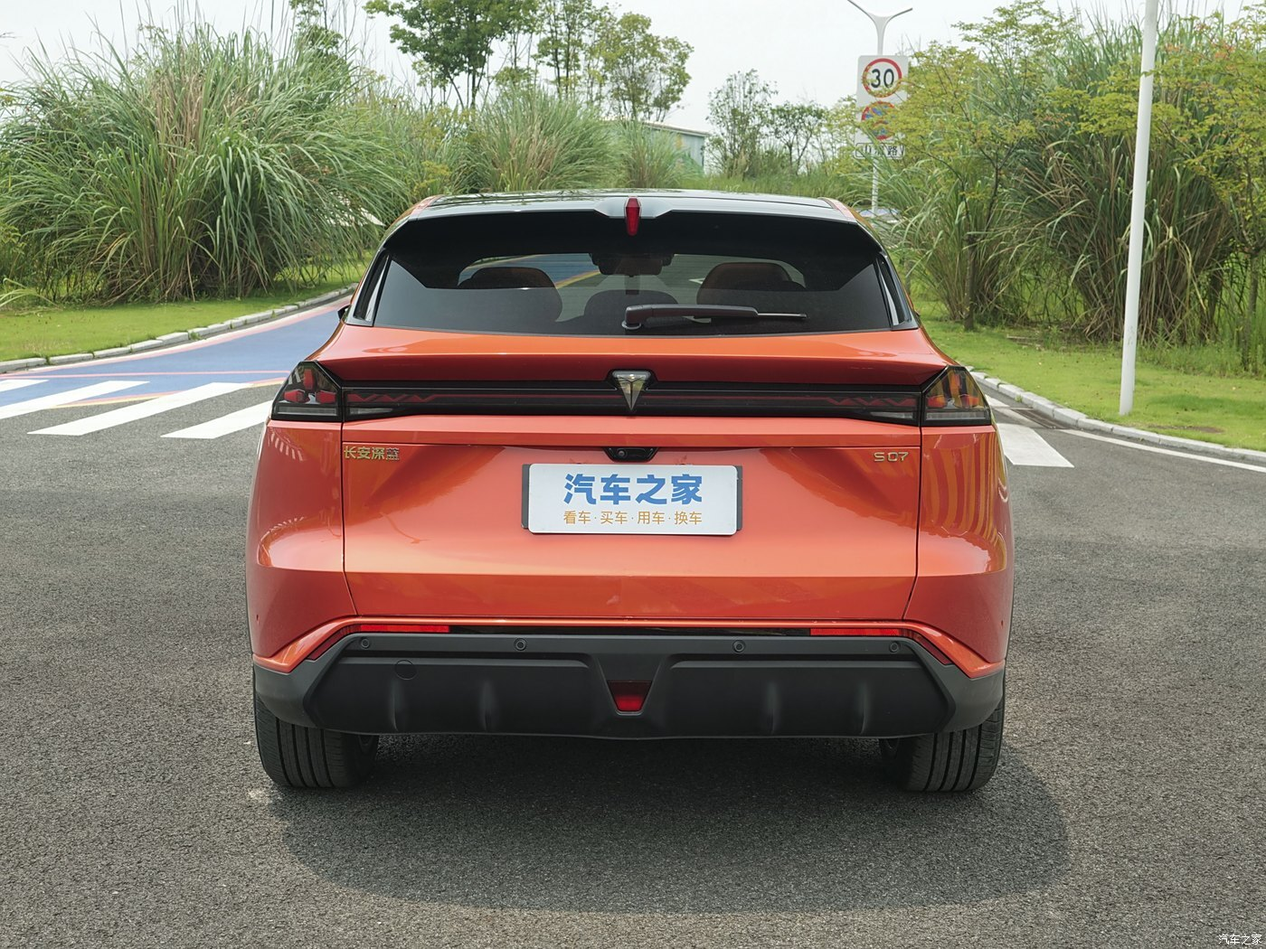Deepal: (618, 374, 646, 409)
